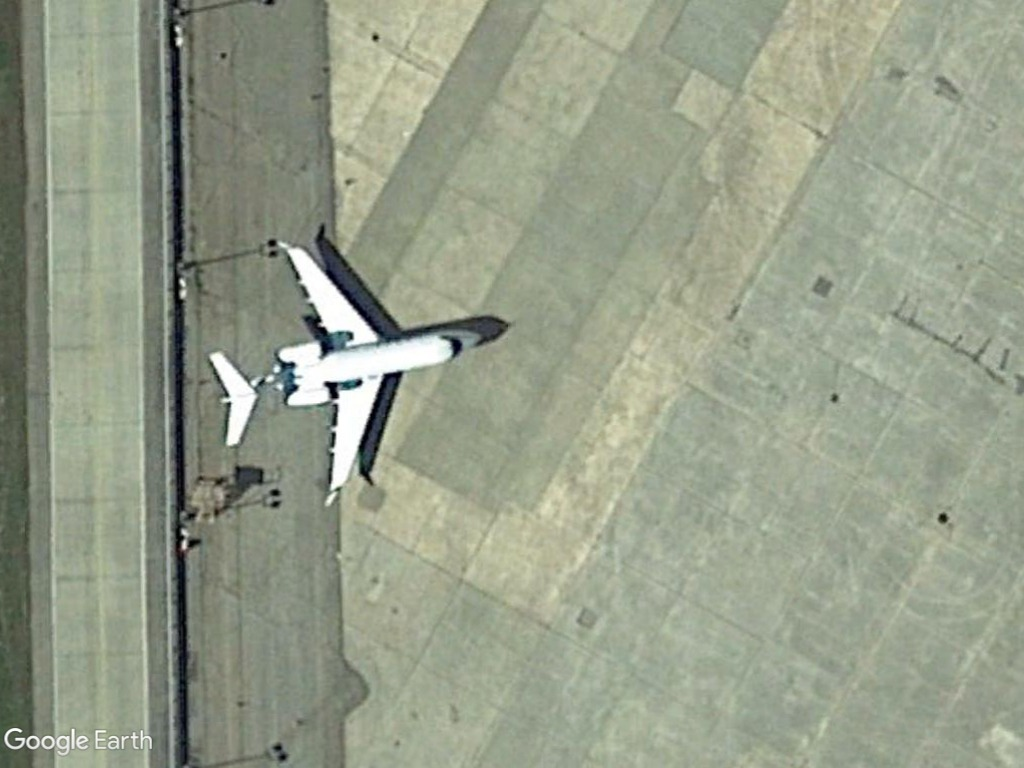chartered: (197, 240, 489, 506)
